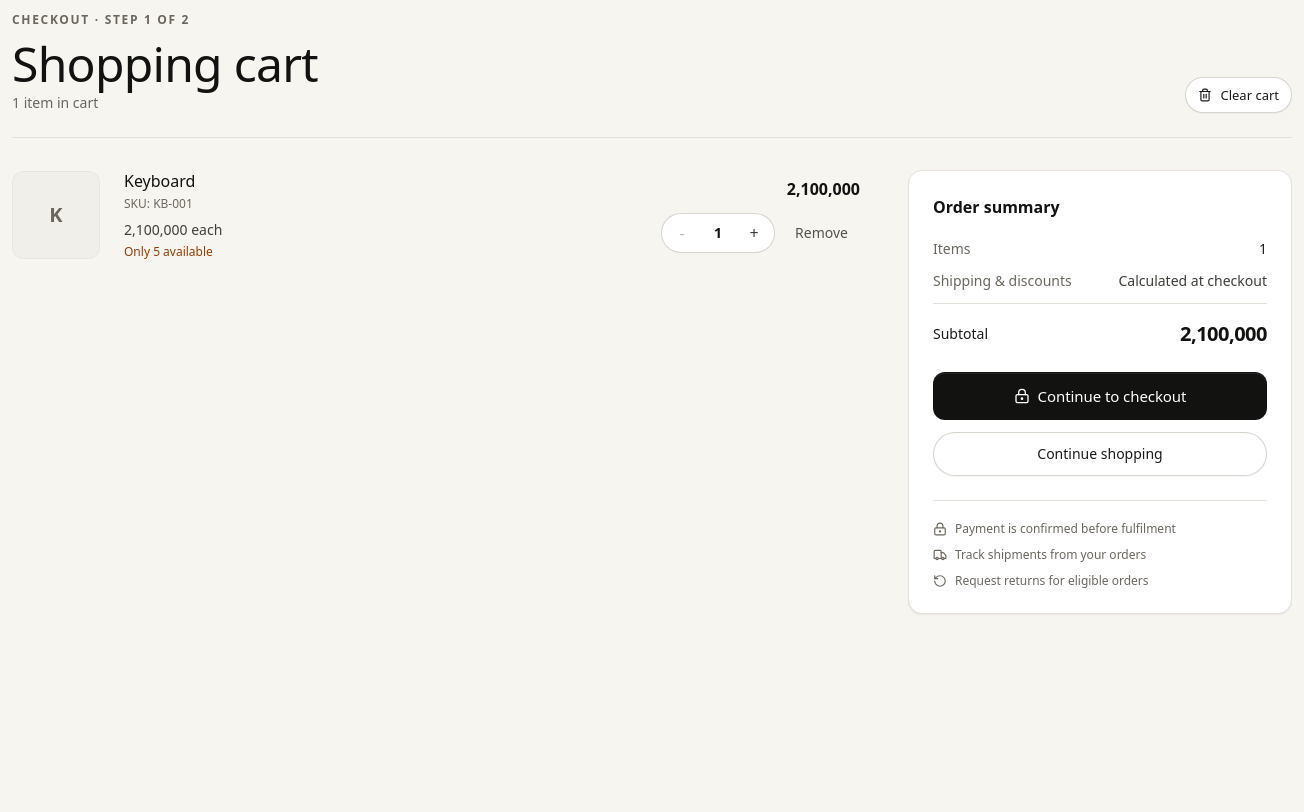
Scenario: CartPanel › prevents checkout after an unconfirmed mutation and supports an explicit reload
Expected: the link "Keyboard" is shown, [124,170,195,192]
Click the button "+" at (754,233), box [734,213,774,253]
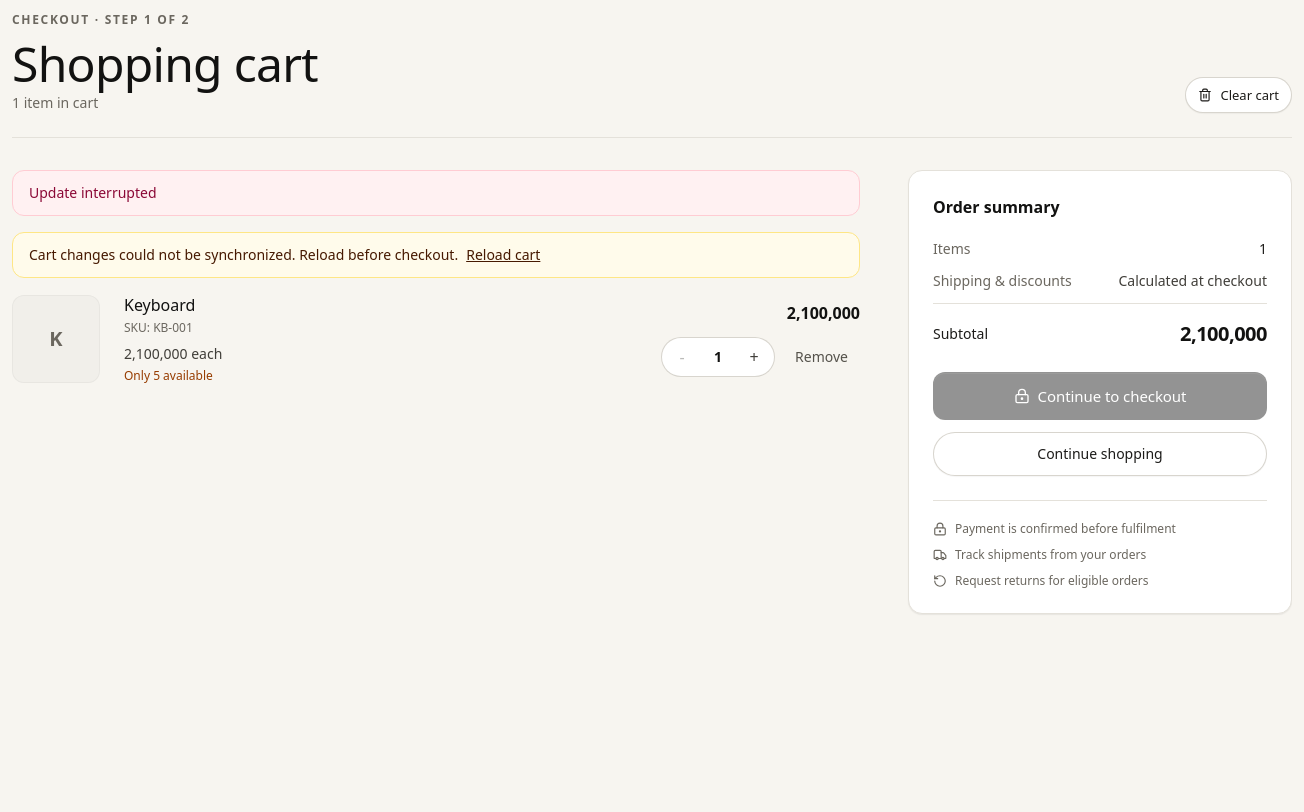
Result: the message shows "could not be synchronized" at [29,245,458,264]
Click the button "Reload cart" at (503,255), box [466,245,540,265]
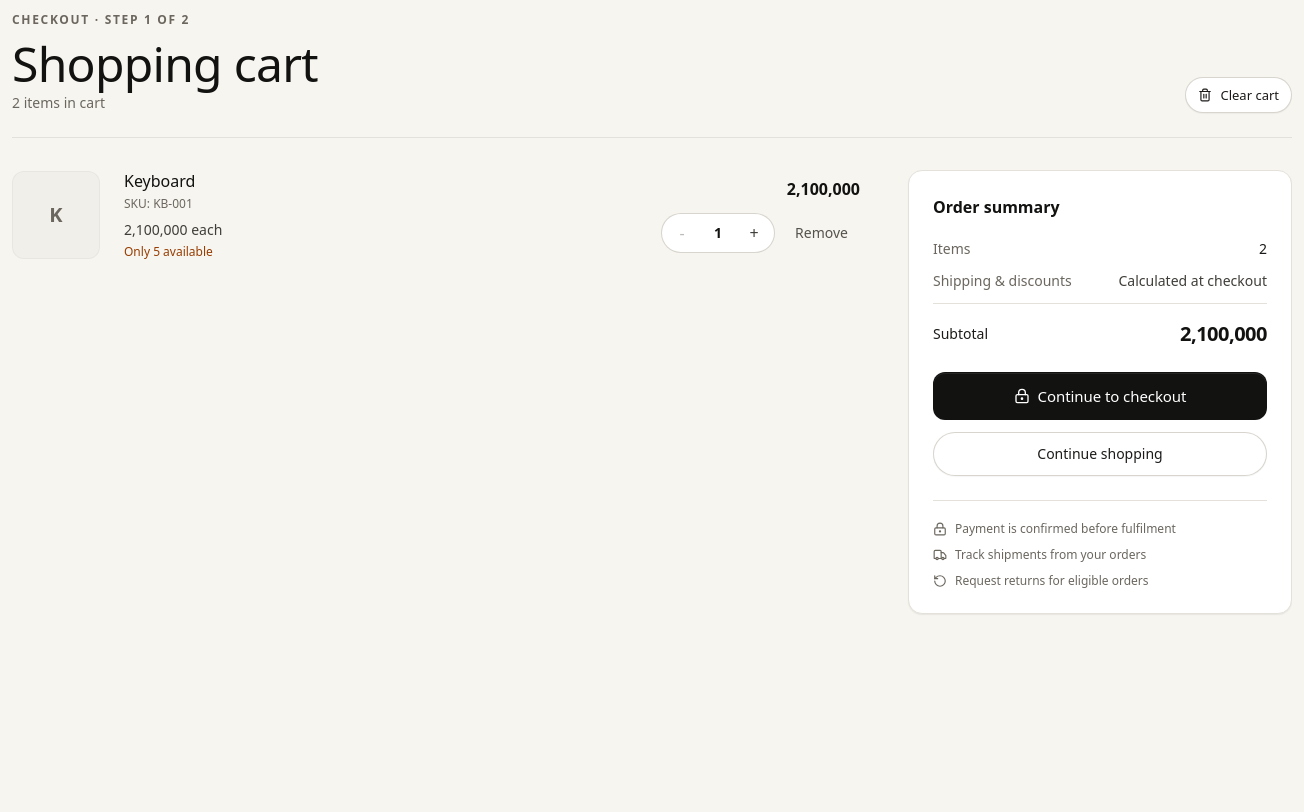
Result: the text "2 items in cart" is shown at [12,93,105,112]
Result: the message "Cart changes could not be synchronized. Reload before checkout. Reload cart" is gone
